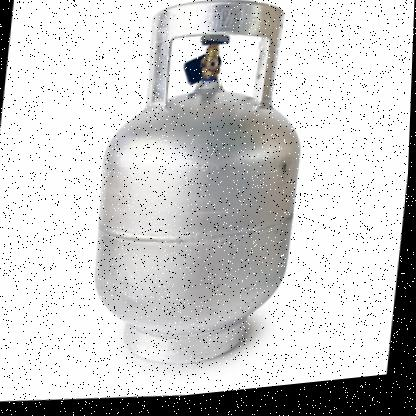gas-tank: (71, 0, 331, 400)
